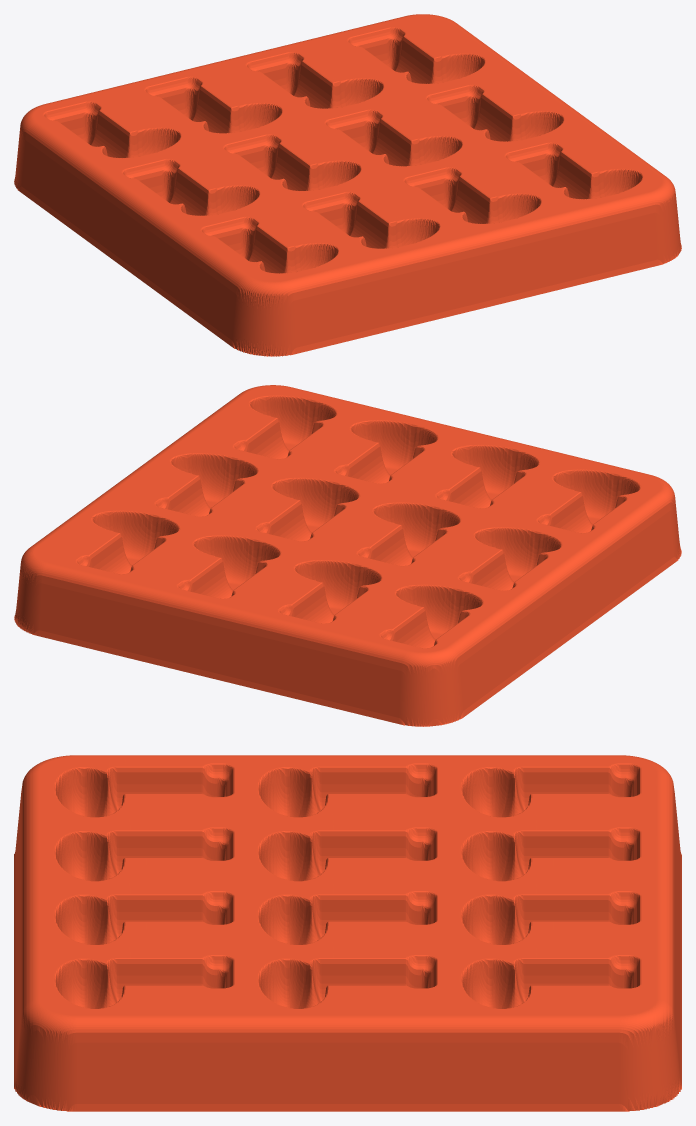
Rendered from mold.glb.
3 renders of one model, top to bottom at view 1: azimuth 30°, elevation 25°; view 2: azimuth 150°, elevation 25°; view 3: azimuth 270°, elevation 25°, orthographic. The views are drawn at different scales.
Visible parts, largest first — view 1: geometry_0; view 2: geometry_0; view 3: geometry_0.
Boxes of the visible parts, left/top/right/bottom form: geometry_0: left=14, top=14, right=681, bottom=356; geometry_0: left=14, top=385, right=681, bottom=726; geometry_0: left=14, top=755, right=681, bottom=1111.
Bounding box in the file's own units: 0.0955 × 0.0136 × 0.0963.
